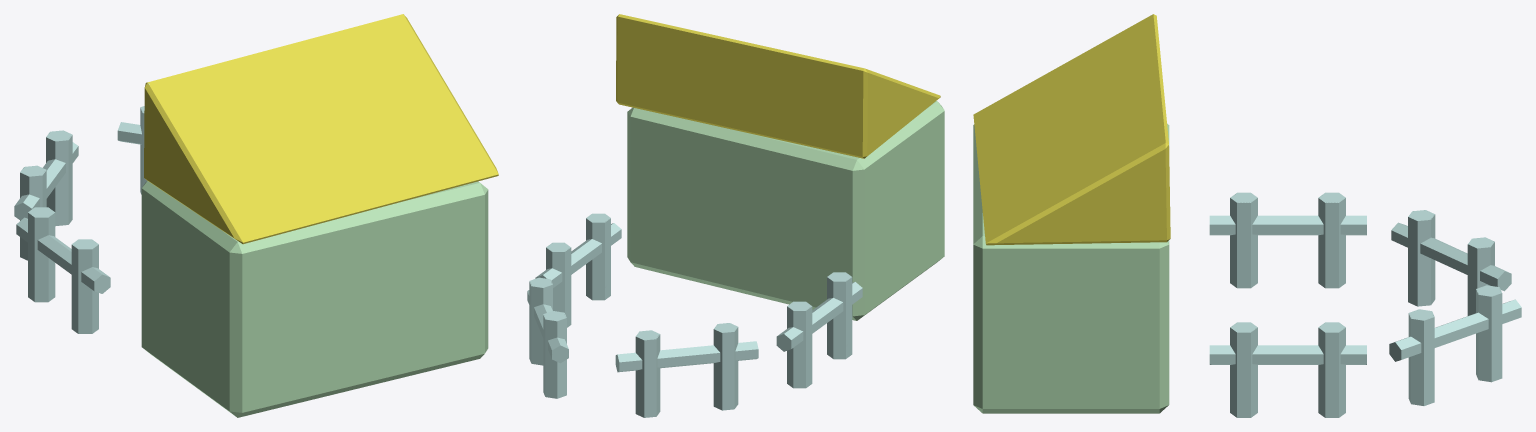
File: Farm.fbx
The picture shows the model from 3 angles, left to right: view 1: azimuth 30°, elevation 25°; view 2: azimuth 150°, elevation 25°; view 3: azimuth 270°, elevation 25°; orthographic projection. The views are drawn at different scales.
Parts seen in each view (by area): view 1: Cube.002, Cube.009, Cube.008, Cube.007; view 2: Cube.002, Cube.008, Cube.009, Cube.003, Cube.007; view 3: Cube.002, Cube.009, Cube.003, Cube.007, Cube.008.
Boxes of the visible parts, x1,y1,x2,y2 form: Cube.002: (141,14,498,417); Cube.009: (16,207,110,333); Cube.008: (14,130,78,260); Cube.007: (117,106,146,194); Cube.002: (616,14,944,320); Cube.008: (615,323,758,417); Cube.009: (776,272,862,388); Cube.003: (535,213,621,327); Cube.007: (527,277,568,398); Cube.002: (973,14,1170,413); Cube.009: (1209,192,1366,288); Cube.003: (1209,322,1366,417); Cube.007: (1389,285,1521,405); Cube.008: (1391,210,1511,315).
Size of the model in its own units: 355 by 313 by 560.
